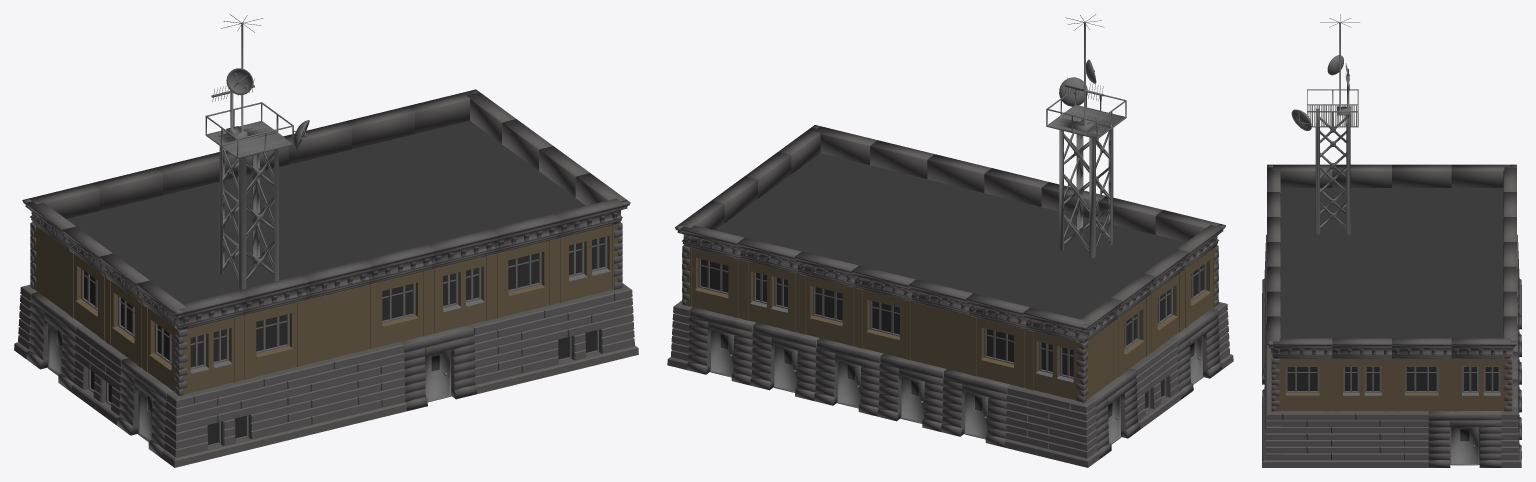
File: microhruch.fbx
3 renders of one model, left to right at view 1: azimuth 30°, elevation 25°; view 2: azimuth 150°, elevation 25°; view 3: azimuth 270°, elevation 25°, orthographic. The views are drawn at different scales.
Visible parts, largest first — view 1: building_base; view 2: building_base; view 3: building_base.
Boxes of the visible parts, x1,y1,x2,y2 form: building_base: [14, 14, 638, 467]; building_base: [667, 14, 1233, 467]; building_base: [1262, 14, 1521, 467].
Bounding box in the file's own units: 2249 × 1768 × 1348.
